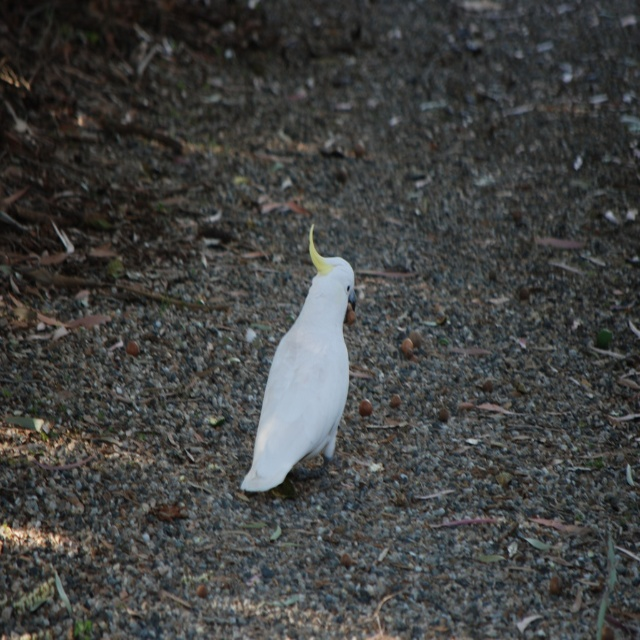Parrot: (239, 222, 358, 501)
